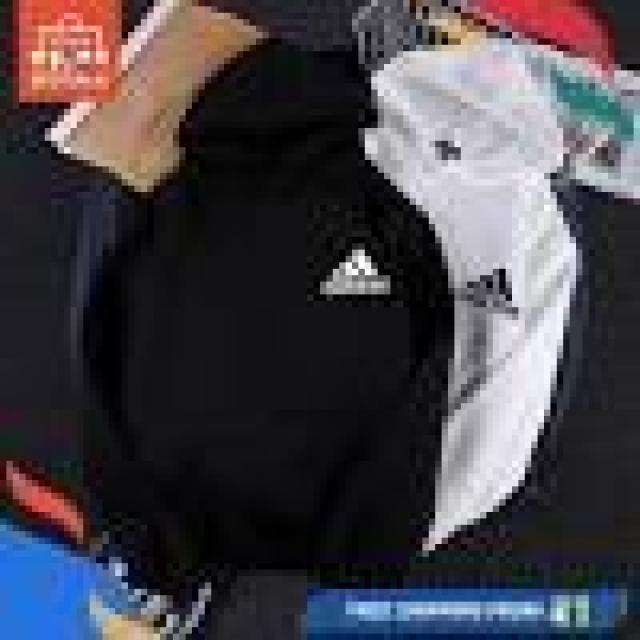sweater: (83, 38, 448, 576)
